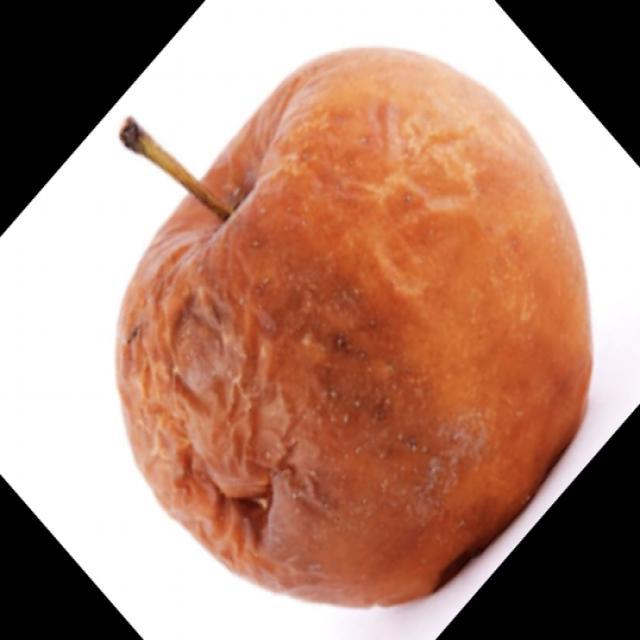Rotten: (137, 64, 608, 588)
